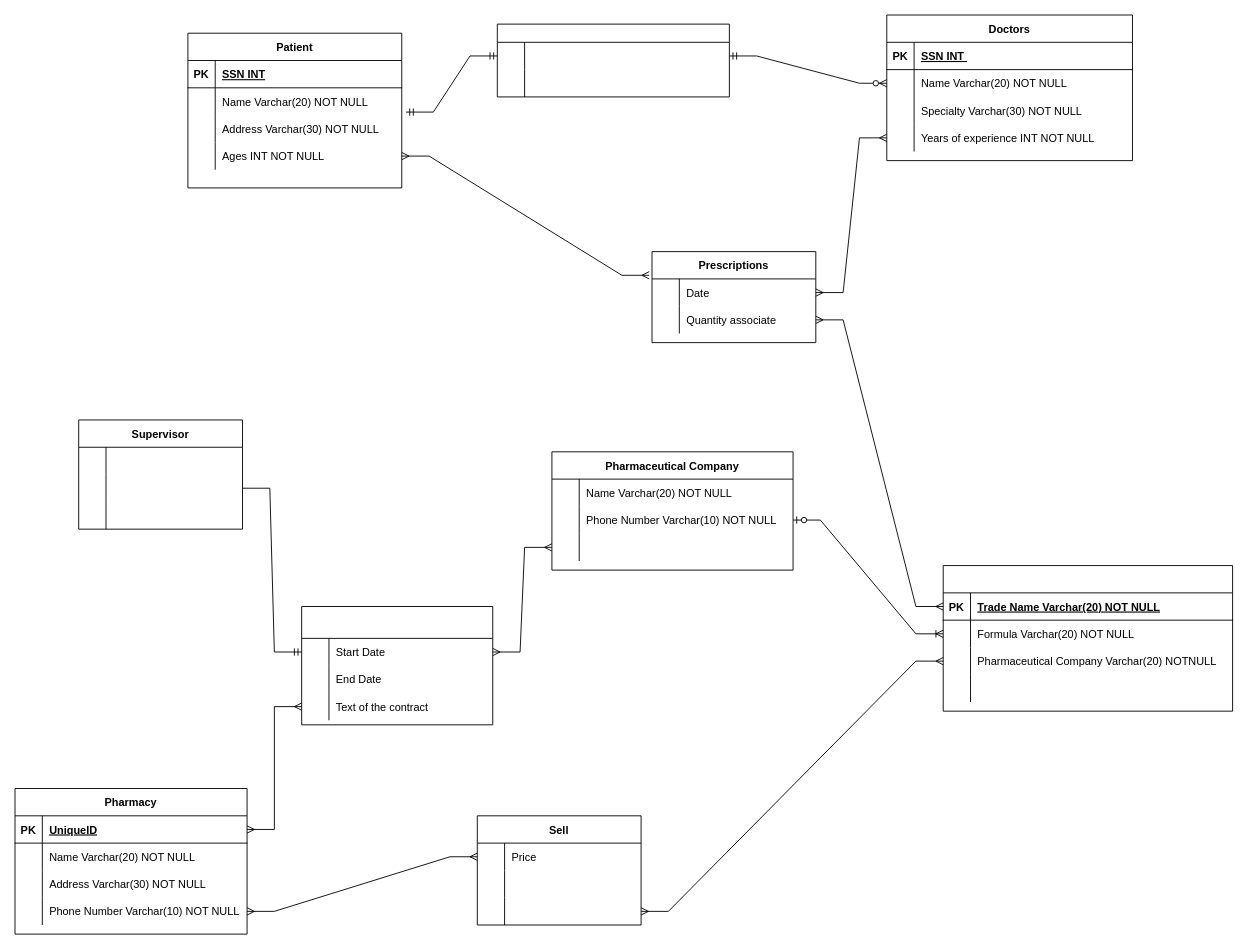
Some shapes in this 1248 by 949 pixel diagram are drawn without their labels. The shapes that lost their labels are listed below. From the top down, each one's box as (x1, y1, x2, y2) in pixels, then its label:
(496, 23, 729, 97): Primary Physician
(942, 565, 1233, 711): Drug
(301, 606, 493, 725): Contracts
